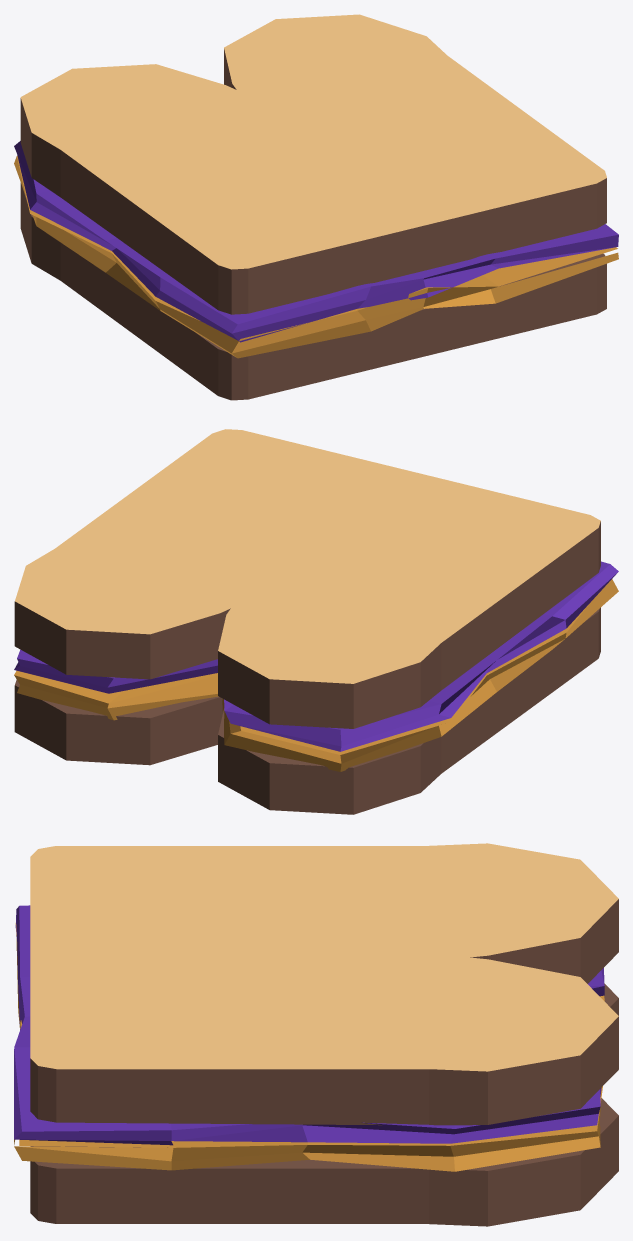
Rendered from roti_B.glb.
3 views of the same model, one above another, from view 1: azimuth 30°, elevation 25°; view 2: azimuth 150°, elevation 25°; view 3: azimuth 270°, elevation 25° (orthographic). The views are drawn at different scales.
Parts seen in each view (by area): view 1: Circle.005; view 2: Circle.005; view 3: Circle.005.
Part boxes in pixels (x1,y1,x2,y2): Circle.005: [14, 14, 618, 400]; Circle.005: [14, 429, 618, 814]; Circle.005: [14, 843, 618, 1226].
Size of the model in its own units: 14.43 by 4.37 by 15.45.
